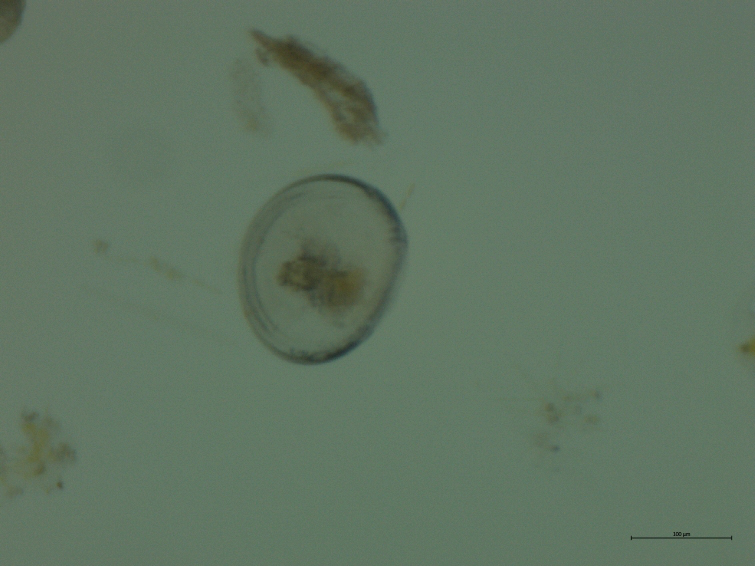oyster: (227, 166, 418, 369)
